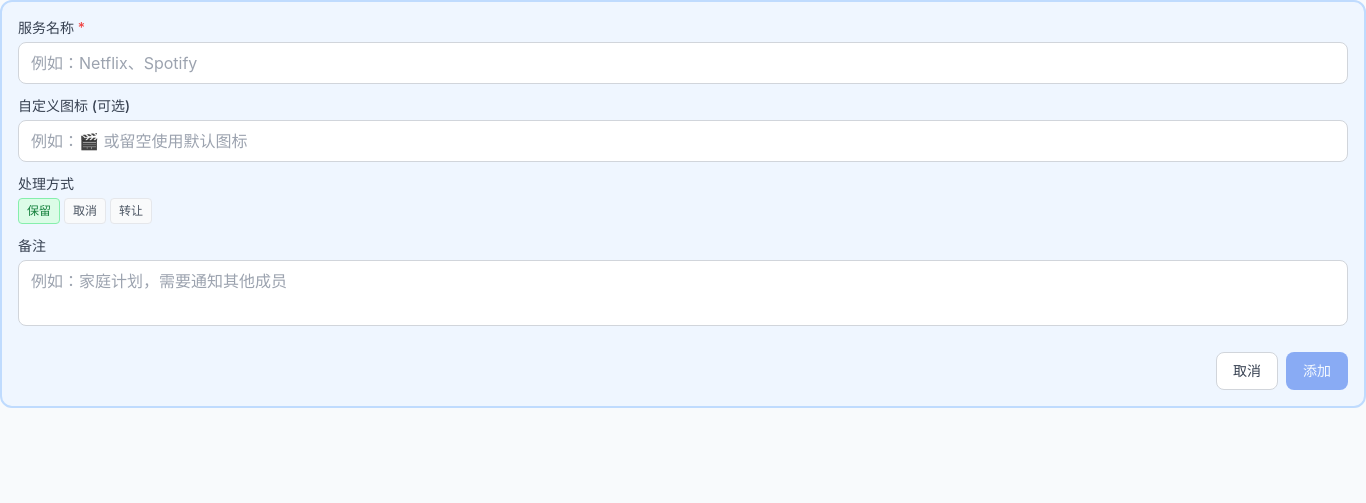
Scenario: SubscriptionCardForm › Form Fields › should show transfer-to input when transfer action is selected
Click the radio button with test id "action-button-transfer". click: (131, 211)
box: [110,198,152,224]
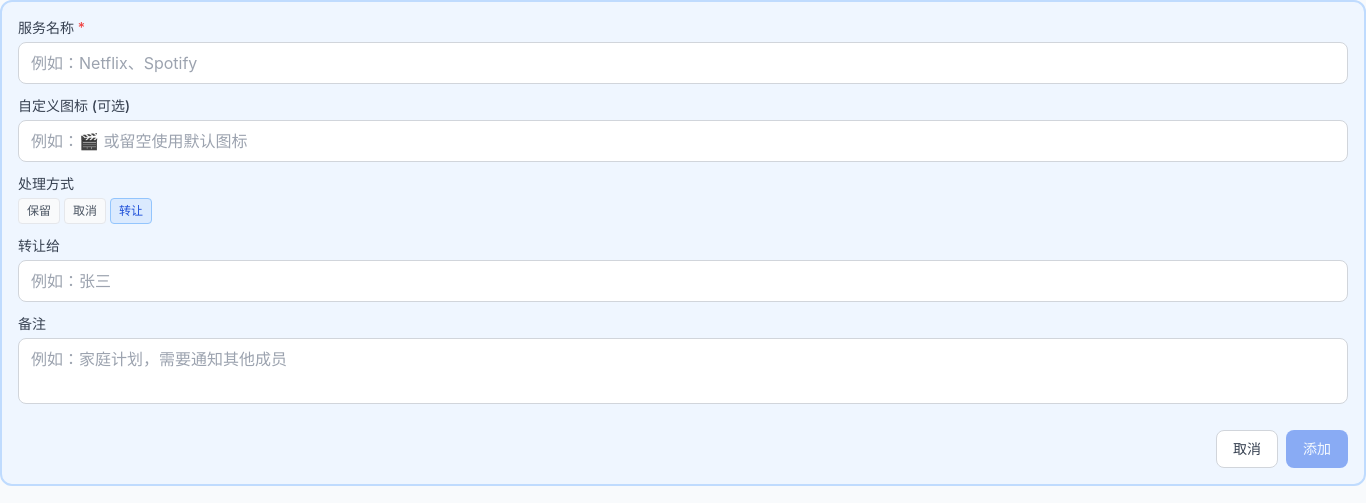
Now the field with test id "subscription-transfer-to-input" is shown, box [18,260,1348,302]
